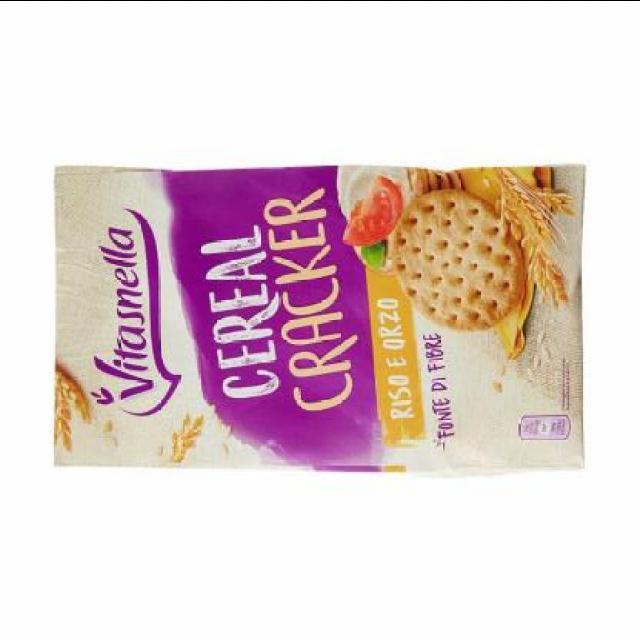Cracker: (46, 147, 596, 475)
